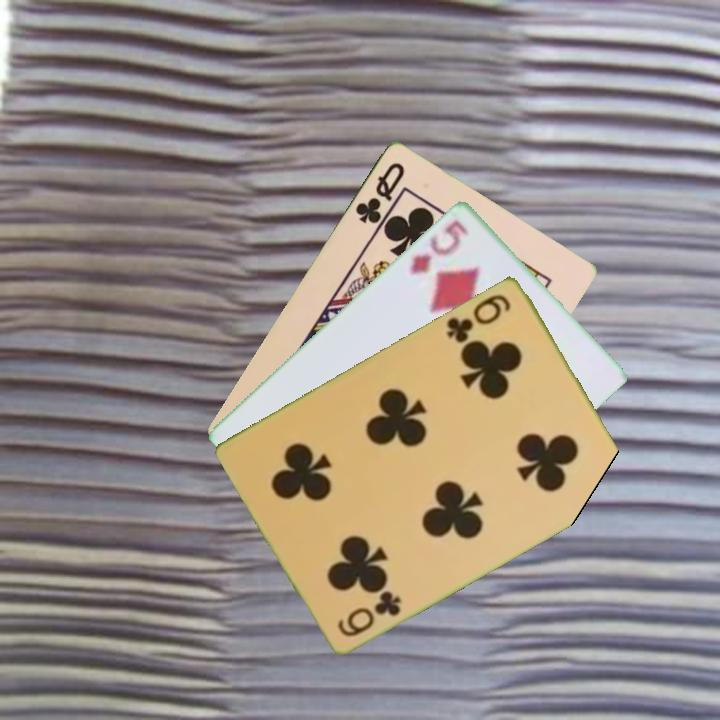5d: (406, 216, 472, 278)
6c: (442, 289, 514, 346), (334, 586, 405, 640)
Qc: (351, 158, 408, 226)
